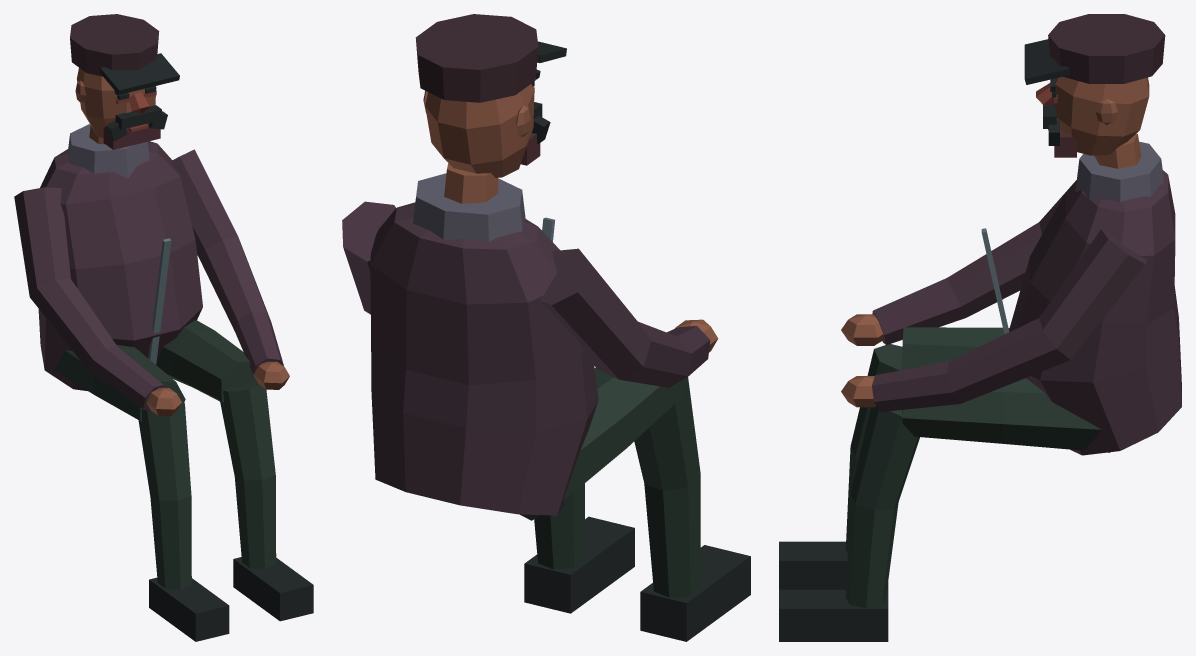
The model's file is sofer.glb.
3 views of the same model, side by side, from view 1: azimuth 30°, elevation 25°; view 2: azimuth 150°, elevation 25°; view 3: azimuth 270°, elevation 25° (orthographic). The views are drawn at different scales.
Visible parts, largest first — view 1: Sofer, Cap; view 2: Sofer, Cap; view 3: Sofer, Cap.
Boxes of the visible parts, x1,y1,x2,y2 form: Sofer: (14,124,313,641); Cap: (70,14,179,149); Sofer: (342,173,750,641); Cap: (415,14,566,203); Sofer: (779,141,1181,641); Cap: (1024,14,1165,168).
Size of the model in its own units: 0.615 by 1.39 by 0.8853.
